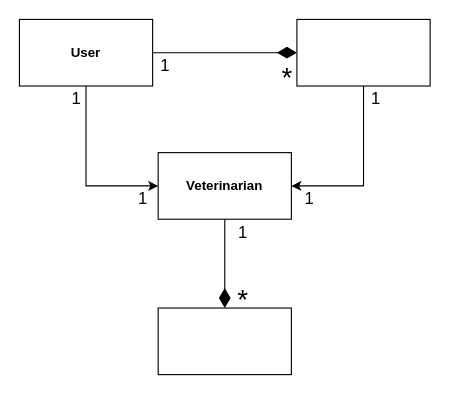
This 450x394 diagram has some shape labels left out. Each missing label, with the centre of its shape:
OnDutyShift: pixel 224 341
Pet: pixel 363 52
